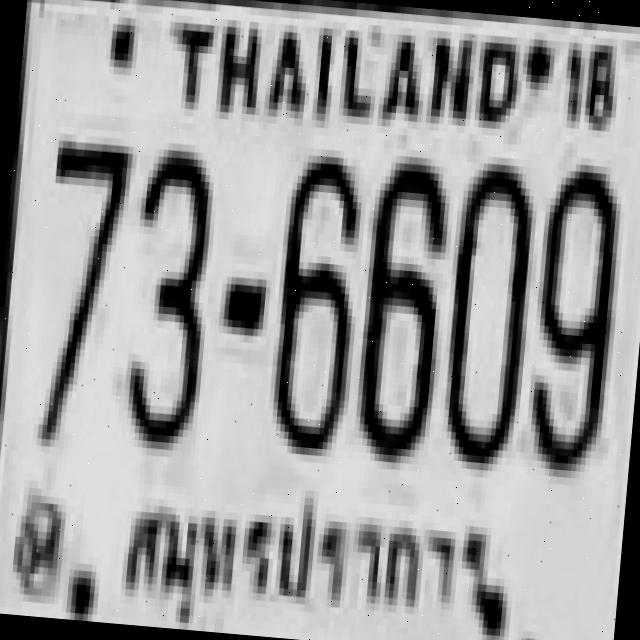0: (436, 160, 537, 472)
3: (118, 142, 218, 446)
6: (352, 155, 452, 459), (268, 153, 368, 457)
7: (28, 133, 134, 444)
9: (524, 159, 624, 477)
SamutPrakan: (114, 467, 492, 640)
